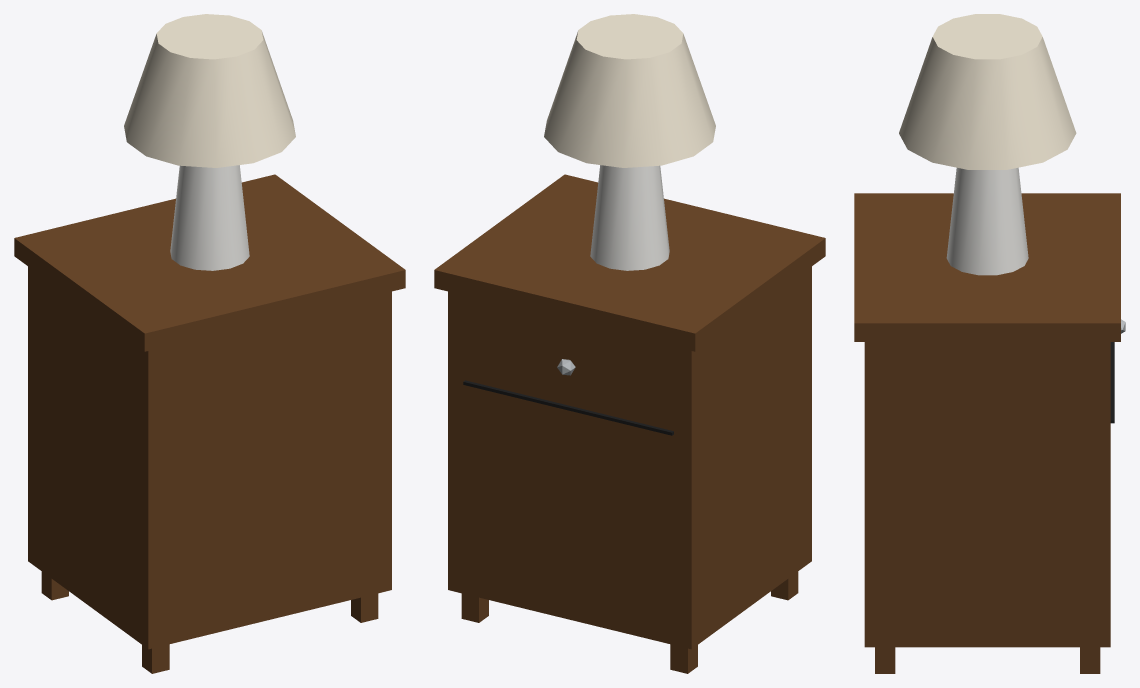
The model's file is nightstand.obj.
The picture shows the model from 3 angles, left to right: view 1: azimuth 30°, elevation 25°; view 2: azimuth 150°, elevation 25°; view 3: azimuth 270°, elevation 25°; orthographic projection. The views are drawn at different scales.
Visible parts, largest first — view 1: nightstand_0, nightstand_1, nightstand_9, nightstand_8, nightstand_4, nightstand_5; view 2: nightstand_0, nightstand_1, nightstand_9, nightstand_8, nightstand_6, nightstand_2, nightstand_3; view 3: nightstand_0, nightstand_1, nightstand_9, nightstand_8, nightstand_3, nightstand_5.
Part boxes in pixels (x1,y1,x2,y2): nightstand_0: (28, 266, 391, 649); nightstand_1: (14, 174, 405, 351); nightstand_9: (124, 14, 295, 167); nightstand_8: (170, 165, 249, 270); nightstand_4: (142, 644, 169, 673); nightstand_5: (351, 593, 378, 622); nightstand_0: (448, 266, 811, 649); nightstand_1: (434, 174, 825, 351); nightstand_9: (544, 14, 715, 167); nightstand_8: (590, 165, 669, 270); nightstand_6: (463, 380, 673, 435); nightstand_2: (670, 644, 697, 673); nightstand_3: (461, 593, 488, 622); nightstand_0: (864, 342, 1110, 647); nightstand_1: (854, 193, 1120, 341); nightstand_9: (899, 14, 1076, 169); nightstand_8: (946, 167, 1028, 275); nightstand_3: (1080, 647, 1100, 673); nightstand_5: (875, 647, 895, 673).
Bounding box in the file's own units: 0.45 × 0.938 × 0.3969.
